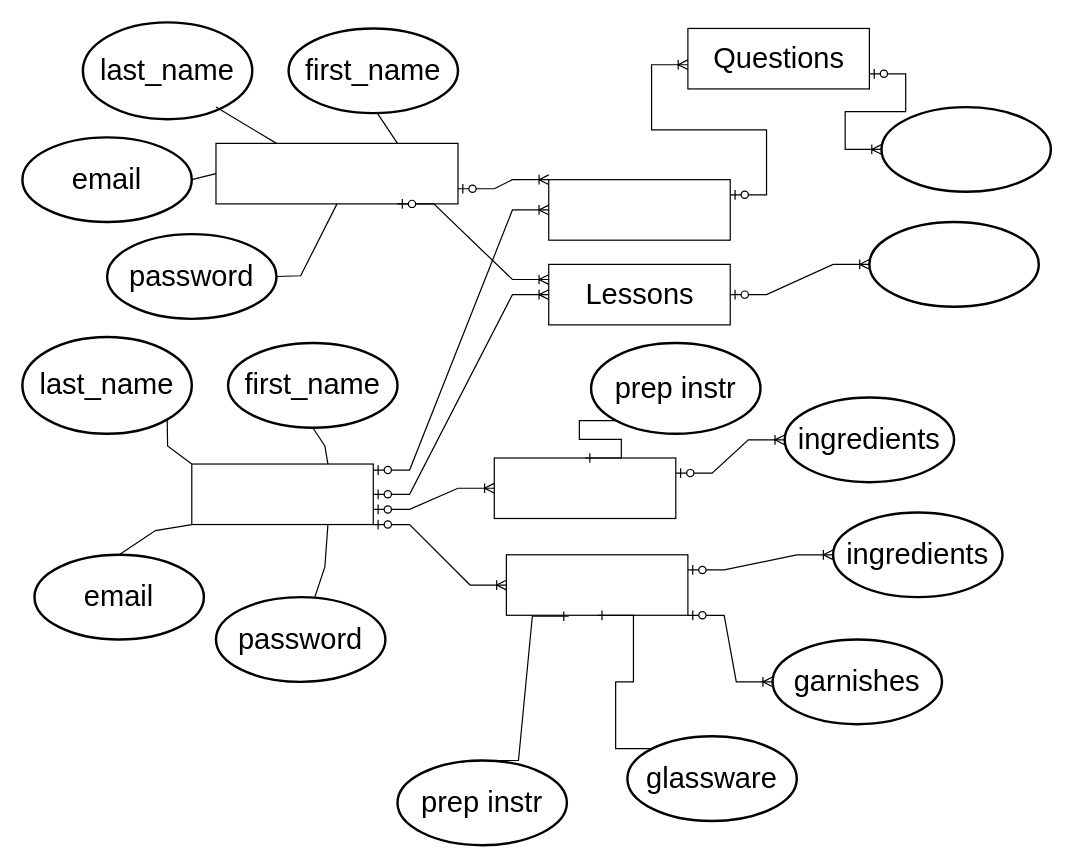
This 1072x866 diagram has some shape labels left out. Here are the shapes that lost their labels. From the top down, the centre of each, then its label:
At [965,148]: "answer".
At [336,173]: "User Non-Admin".
At [639,209]: "Tests".
At [953,263]: "slide".
At [282,494]: "User Admin".
At [584,487]: "Food".
At [596,584]: "Drinks".
